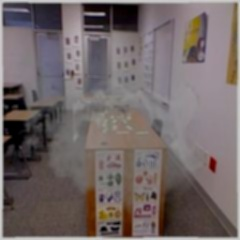smoke: (54, 86, 192, 167)
